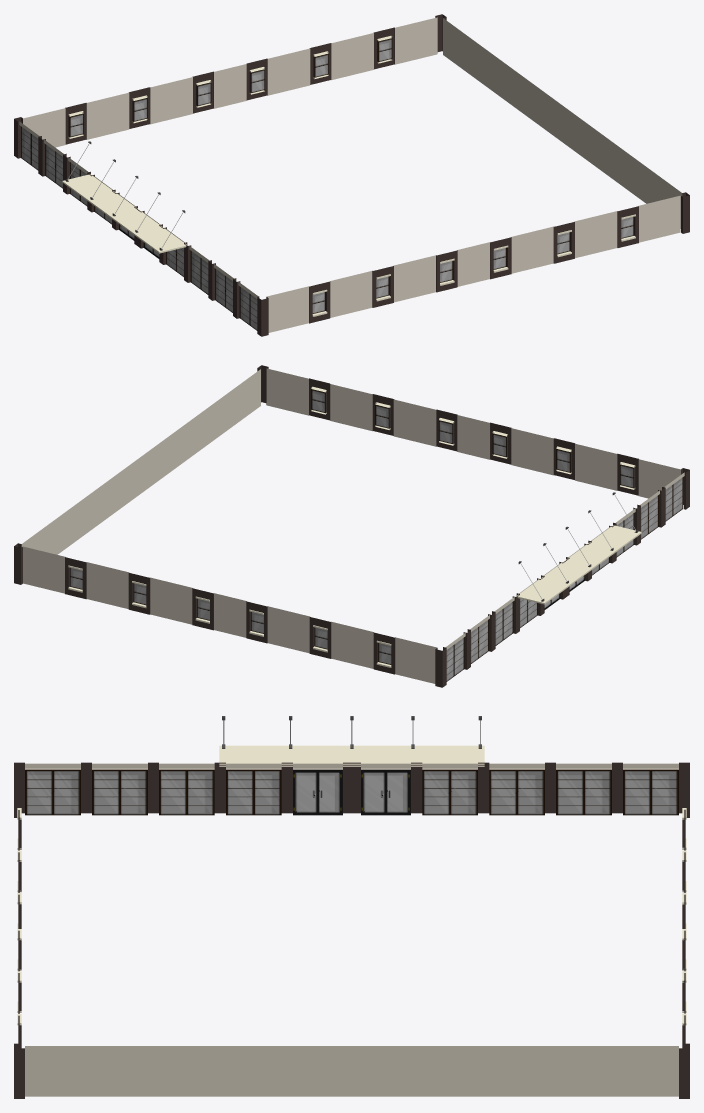
File: BuildingBig2_1.fbx
3 views of the same model, one above another, from view 1: azimuth 30°, elevation 25°; view 2: azimuth 150°, elevation 25°; view 3: azimuth 270°, elevation 25° (orthographic). The views are drawn at different scales.
Parts seen in each view (by area): view 1: BuildingBig2_1; view 2: BuildingBig2_1; view 3: BuildingBig2_1.
Part boxes in pixels (<box>): BuildingBig2_1: <box>14,14,689,336</box>; BuildingBig2_1: <box>14,365,689,687</box>; BuildingBig2_1: <box>14,716,689,1098</box>.
Size of the model in its own units: 6440 by 948 by 6060.
